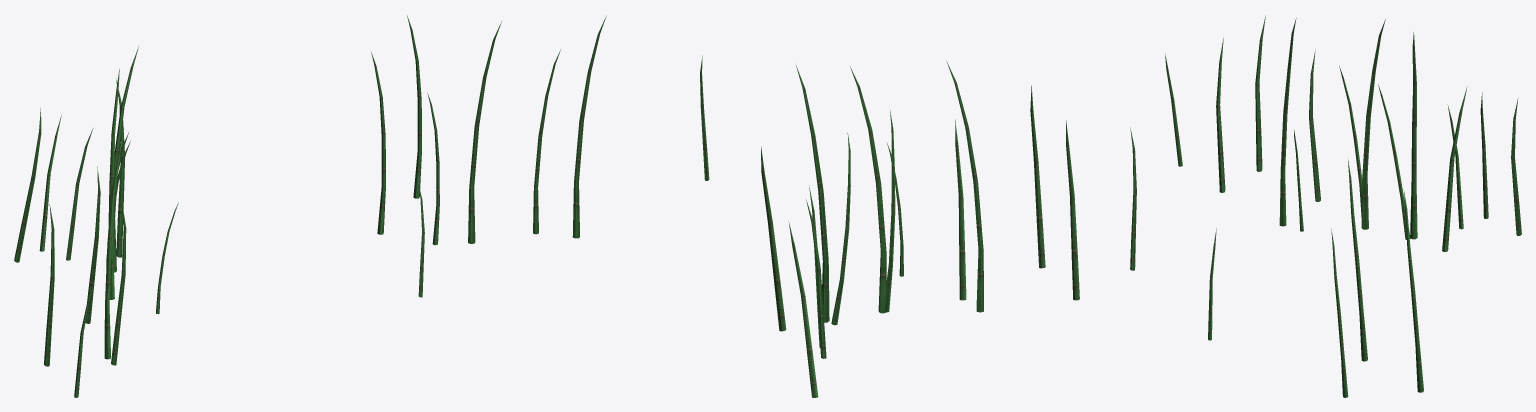
The model's file is Area_11_44.fbx.
The picture shows the model from 3 angles, left to right: view 1: azimuth 30°, elevation 25°; view 2: azimuth 150°, elevation 25°; view 3: azimuth 270°, elevation 25°; orthographic projection. The views are drawn at different scales.
Parts seen in each view (by area): view 1: Area_11_44; view 2: Area_11_44; view 3: Area_11_44.
Boxes of the visible parts, x1,y1,x2,y2 form: Area_11_44: [14, 15, 439, 397]; Area_11_44: [468, 15, 1136, 397]; Area_11_44: [1165, 15, 1521, 397].
Bounding box in the file's own units: 4583 × 2273 × 3041.
